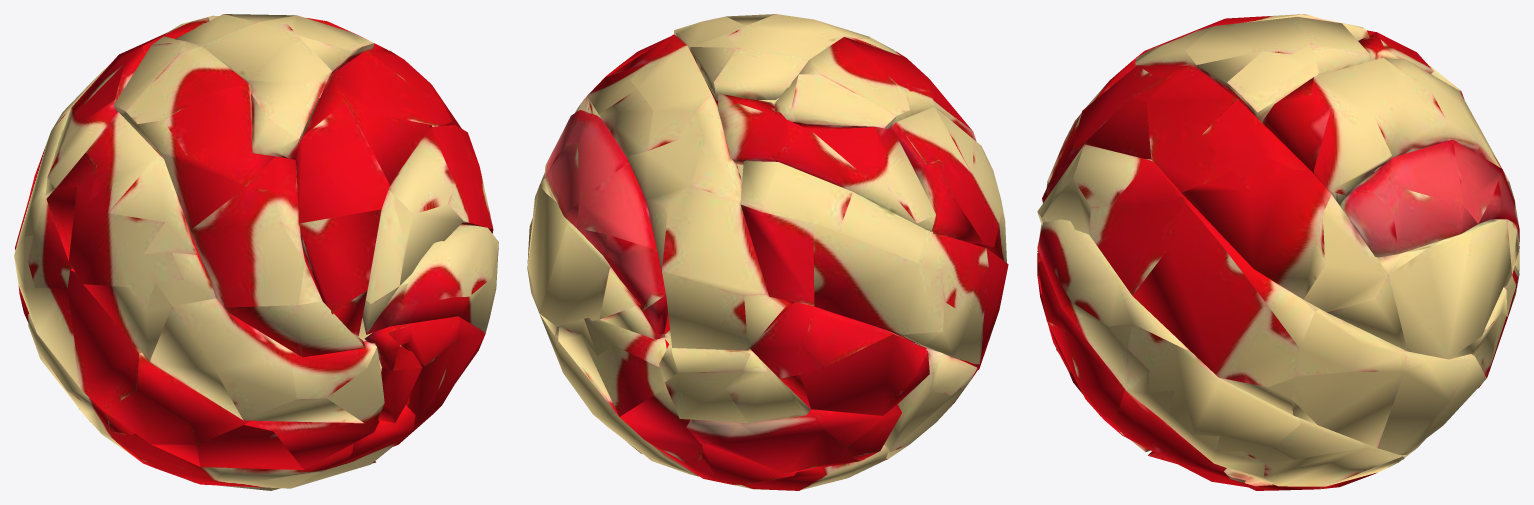
Rendered from stamp_ball.glb.
3 views of the same model, side by side, from view 1: azimuth 30°, elevation 25°; view 2: azimuth 150°, elevation 25°; view 3: azimuth 270°, elevation 25° (orthographic).
Size of the model in its own units: 1 by 0.9941 by 1.
1 material, 1 textured.
